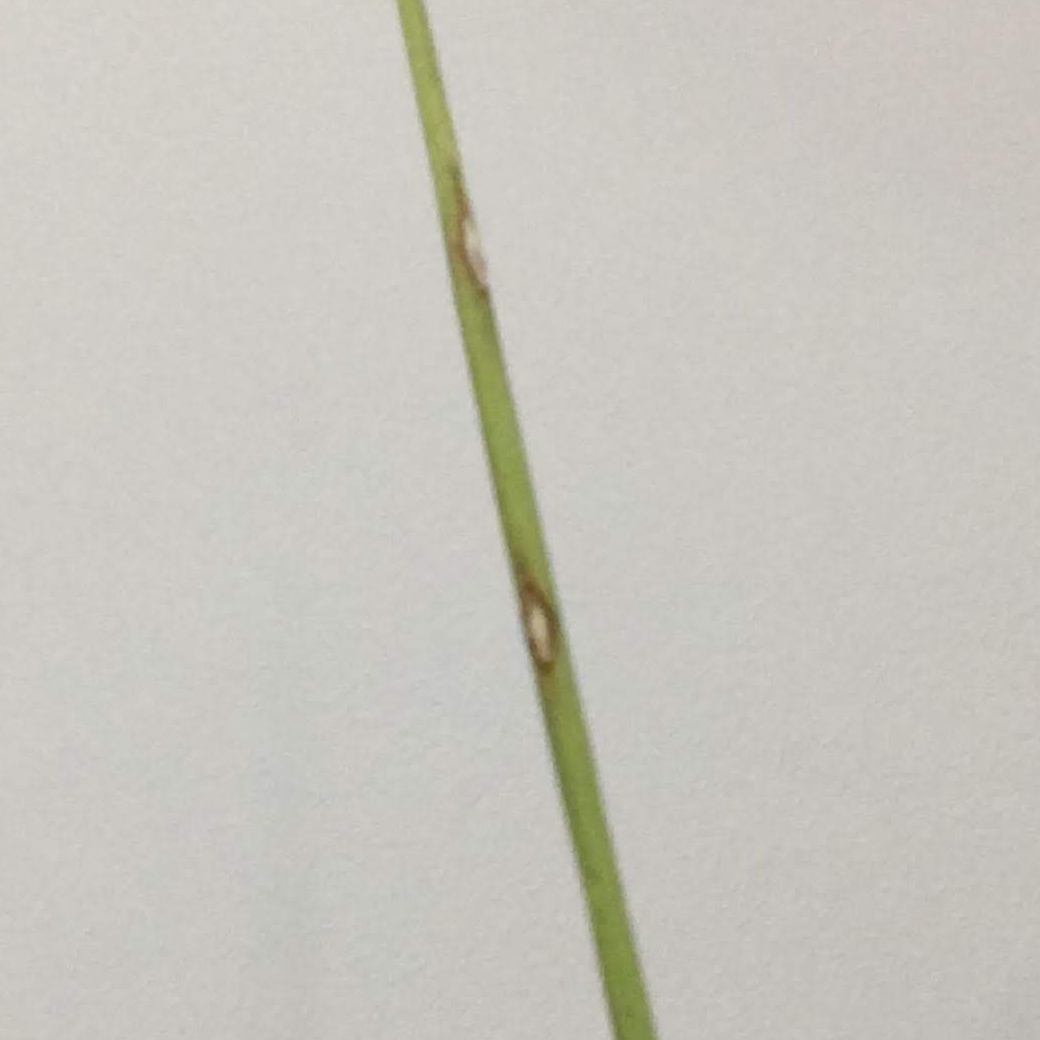leaf blast: (392, 1, 641, 1026)
